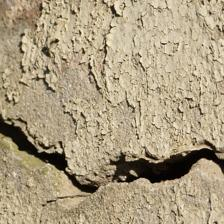Crack: (1, 64, 100, 157), (56, 88, 140, 136)
